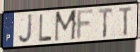F: (75, 8, 96, 42)
J: (18, 13, 34, 45)
L: (38, 13, 53, 42)
M: (53, 8, 79, 43)
T: (118, 5, 134, 37), (98, 7, 114, 39)
